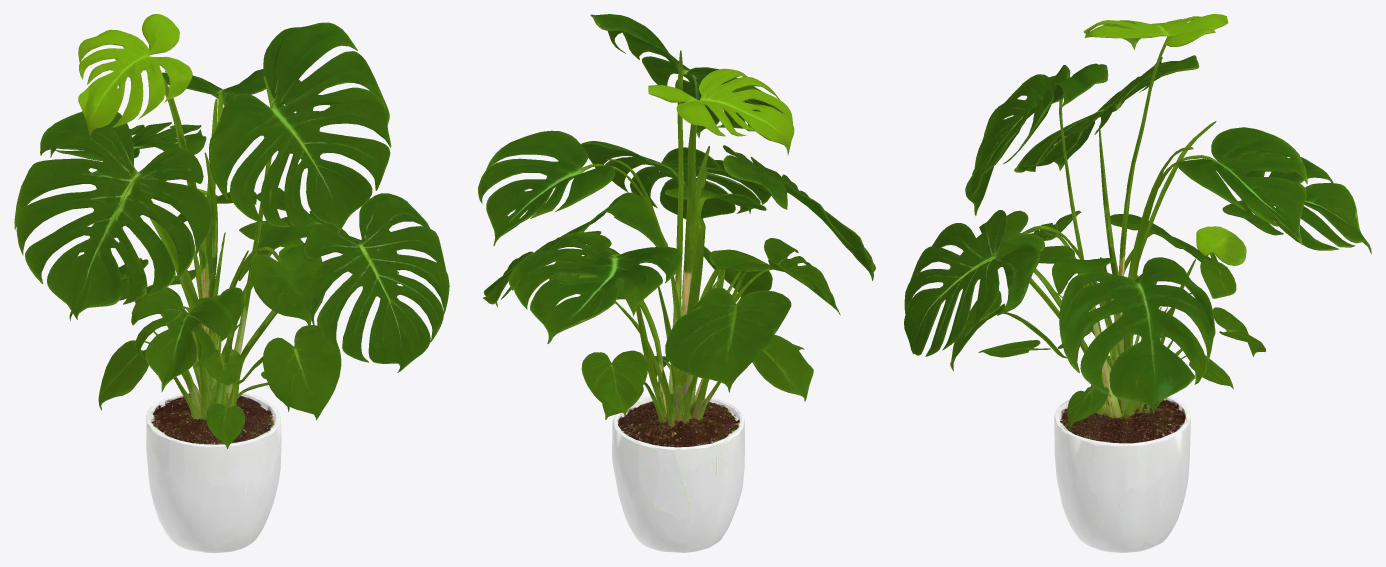
File: plant.glb
3 renders of one model, left to right at view 1: azimuth 30°, elevation 25°; view 2: azimuth 150°, elevation 25°; view 3: azimuth 270°, elevation 25°, orthographic. The views are drawn at different scales.
Parts seen in each view (by area): view 1: Mesh_0; view 2: Mesh_0; view 3: Mesh_0.
Part boxes in pixels (<box>): Mesh_0: <box>14,14,449,552</box>; Mesh_0: <box>478,14,875,552</box>; Mesh_0: <box>904,14,1371,552</box>.
Size of the model in its own units: 1.48 by 1.9 by 1.6.
Materials: 1 (1 with a texture image).
